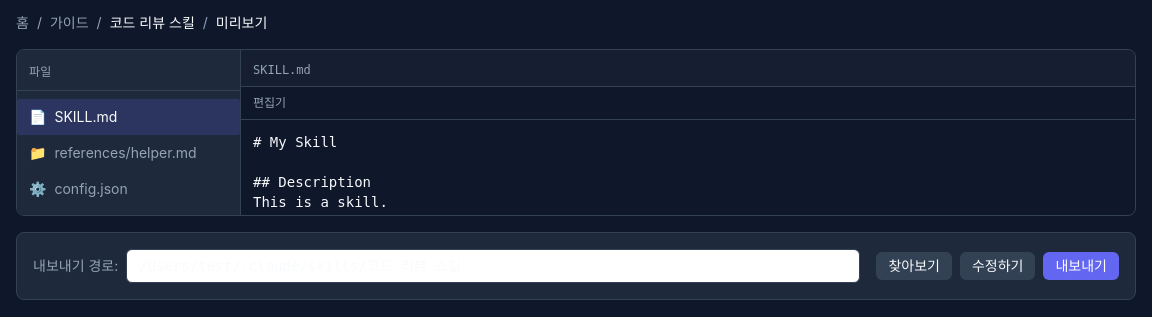
it: Preview › 내용이 편집되었을 때 "수정됨" 배지를 표시한다
Replace the text in the text box named "파일 내용 편집기" with "# 수정된 내용" at {"x": 688, "y": 168}, box left=241, top=120, right=1135, bottom=215
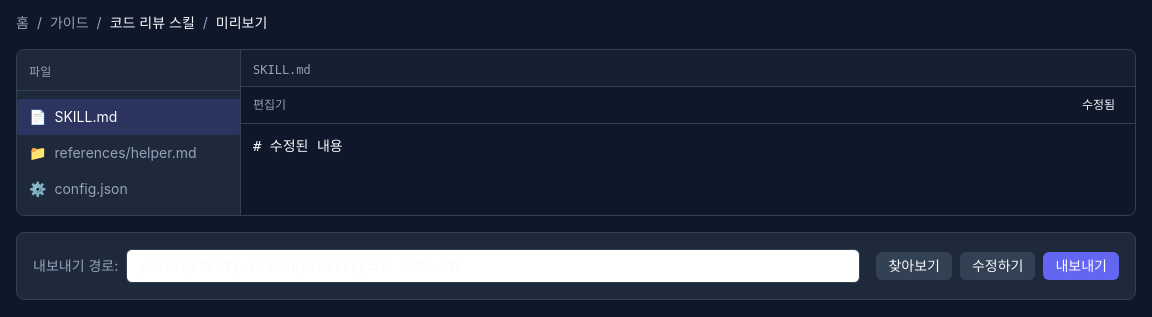
Expected: the text "수정됨" is shown, left=1082, top=97, right=1115, bottom=112
